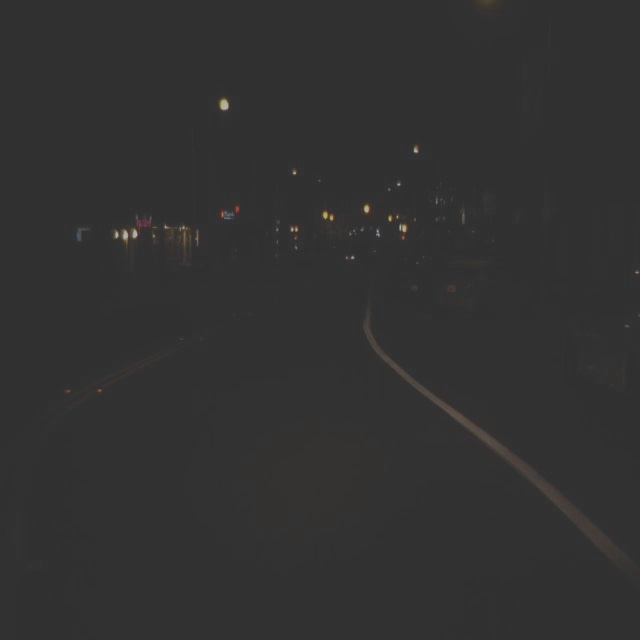warning: (364, 205, 370, 213), (402, 225, 406, 232)
warning traffic light: (362, 197, 370, 219), (401, 220, 407, 237)
